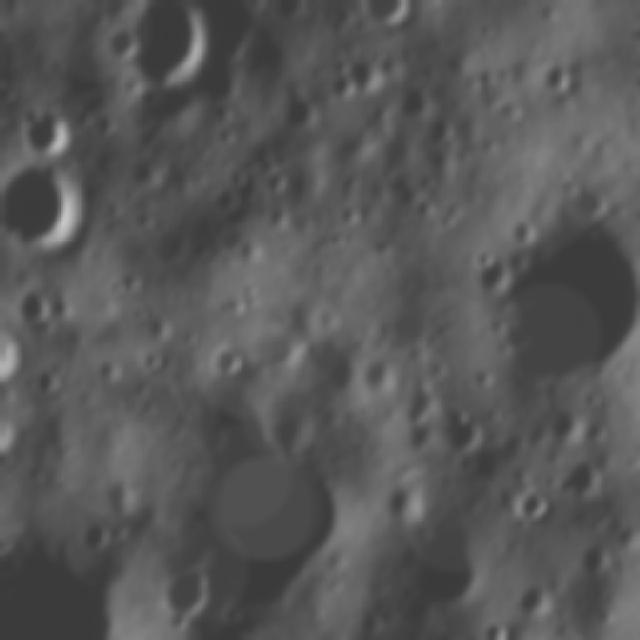crater: (169, 382, 363, 616), (495, 220, 640, 394), (0, 532, 123, 640), (374, 516, 491, 624), (108, 0, 220, 98), (0, 152, 94, 254), (296, 324, 358, 399), (158, 562, 217, 627), (22, 93, 76, 158), (379, 292, 432, 358), (555, 452, 610, 501), (444, 401, 488, 456), (564, 173, 610, 224), (385, 476, 427, 529), (280, 89, 325, 137), (260, 326, 306, 372), (0, 314, 28, 389), (471, 254, 514, 300), (98, 20, 139, 66), (547, 401, 587, 447), (516, 576, 558, 618), (12, 280, 54, 322), (359, 0, 413, 32), (208, 336, 247, 378), (424, 105, 462, 148), (352, 52, 388, 97), (512, 485, 553, 524), (362, 348, 396, 394), (0, 401, 25, 462), (33, 359, 72, 398), (576, 539, 613, 578), (0, 3, 14, 102), (328, 58, 358, 104), (498, 321, 534, 359), (208, 177, 244, 214), (106, 472, 140, 510), (505, 211, 541, 246), (398, 82, 433, 118), (93, 104, 129, 139), (542, 61, 581, 93), (79, 517, 113, 551), (262, 199, 295, 233), (114, 263, 148, 295), (269, 0, 309, 26), (137, 343, 169, 375), (478, 614, 516, 640), (332, 199, 363, 230), (264, 166, 293, 197), (576, 382, 606, 411), (220, 220, 248, 251), (586, 416, 616, 441), (425, 356, 453, 382), (225, 165, 250, 193), (418, 0, 444, 11), (615, 0, 640, 8)
